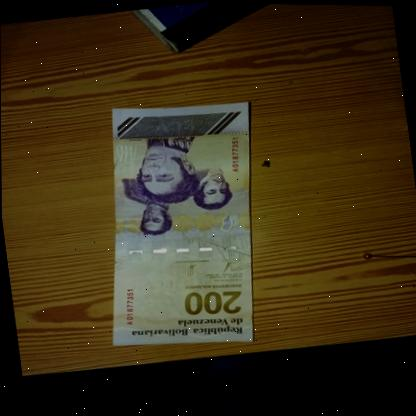two_hundred-front-vef: (81, 90, 278, 358)
